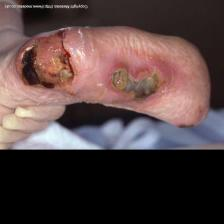Wound: (17, 29, 81, 97), (107, 58, 175, 102)
